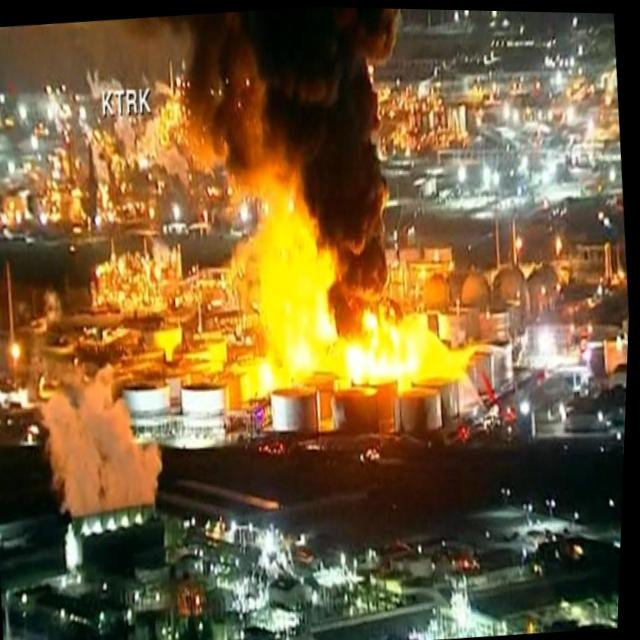fire: (248, 270, 462, 409)
